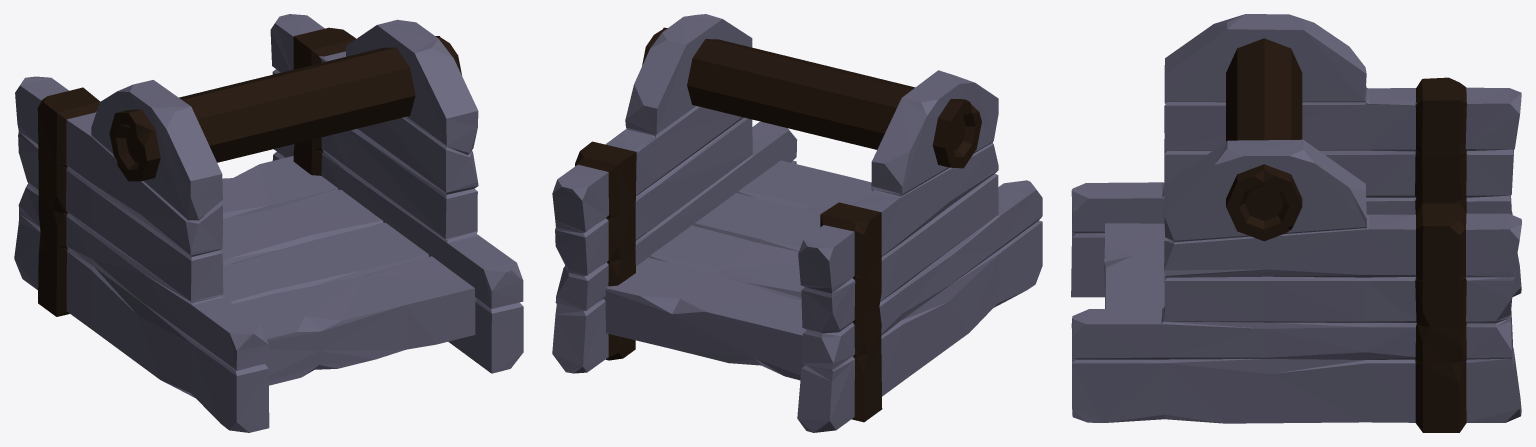
Rendered from SFFA_Cannon_Base.fbx.
3 renders of one model, left to right at view 1: azimuth 30°, elevation 25°; view 2: azimuth 150°, elevation 25°; view 3: azimuth 270°, elevation 25°, orthographic. The views are drawn at different scales.
Parts seen in each view (by area): view 1: SFFA_Cannon_Base; view 2: SFFA_Cannon_Base; view 3: SFFA_Cannon_Base.
Boxes of the visible parts, <box> form: SFFA_Cannon_Base: <box>14,14,523,432</box>; SFFA_Cannon_Base: <box>552,14,1042,432</box>; SFFA_Cannon_Base: <box>1071,14,1521,432</box>.
Bounding box in the file's own units: 44.28 × 36.4 × 54.08.
